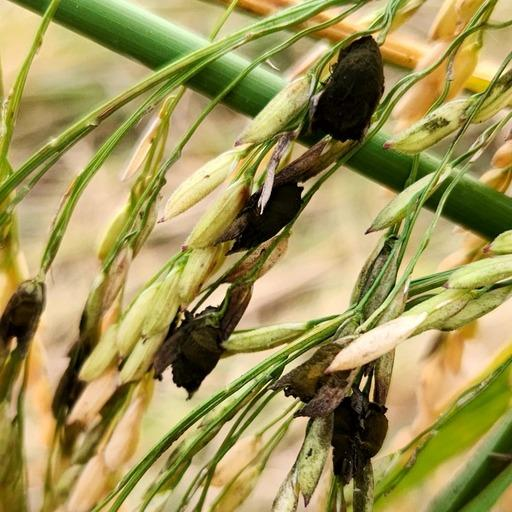Leaf_Scald: (316, 35, 390, 148), (328, 382, 392, 500), (219, 177, 312, 248), (165, 311, 235, 402), (4, 280, 48, 348)
